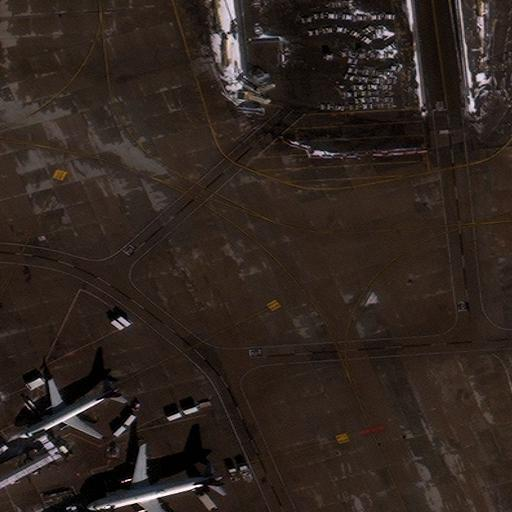Medium Civil Transport: (87, 446, 221, 512), (18, 379, 120, 439)
